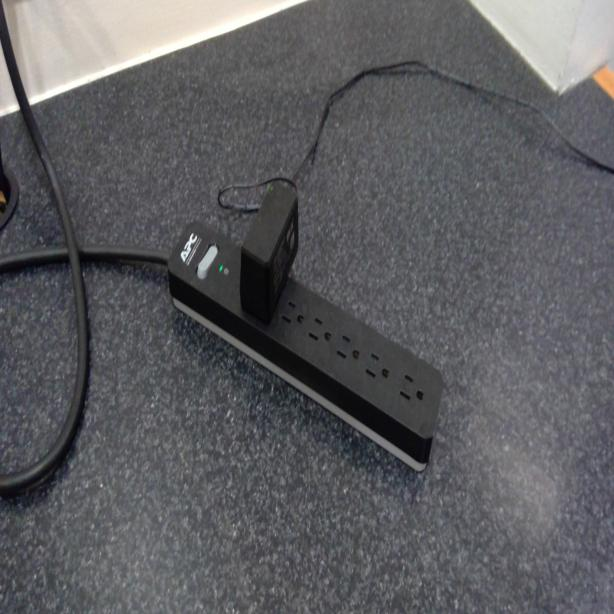typeb: (362, 342, 392, 391), (398, 366, 425, 412), (281, 291, 306, 338), (334, 328, 361, 370), (307, 309, 333, 352)
